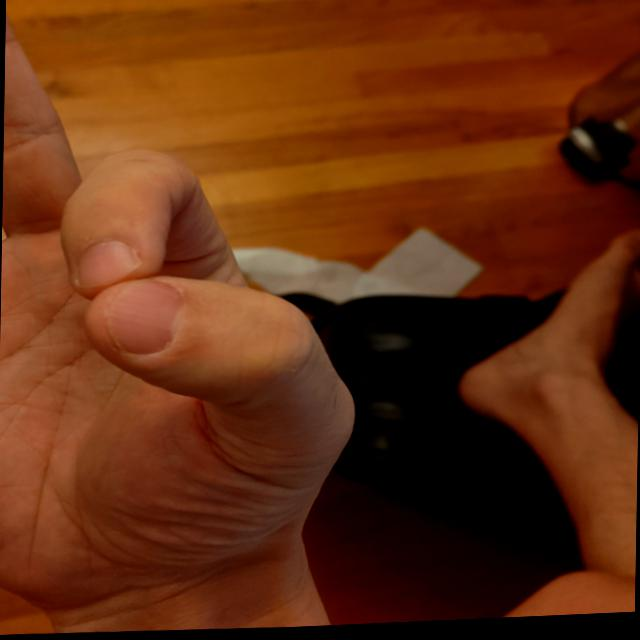F: (0, 0, 371, 630)
